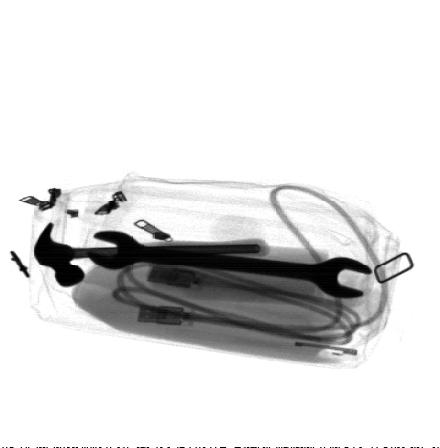Hammer: (33, 222, 268, 289)
Wrench: (88, 229, 373, 299)
